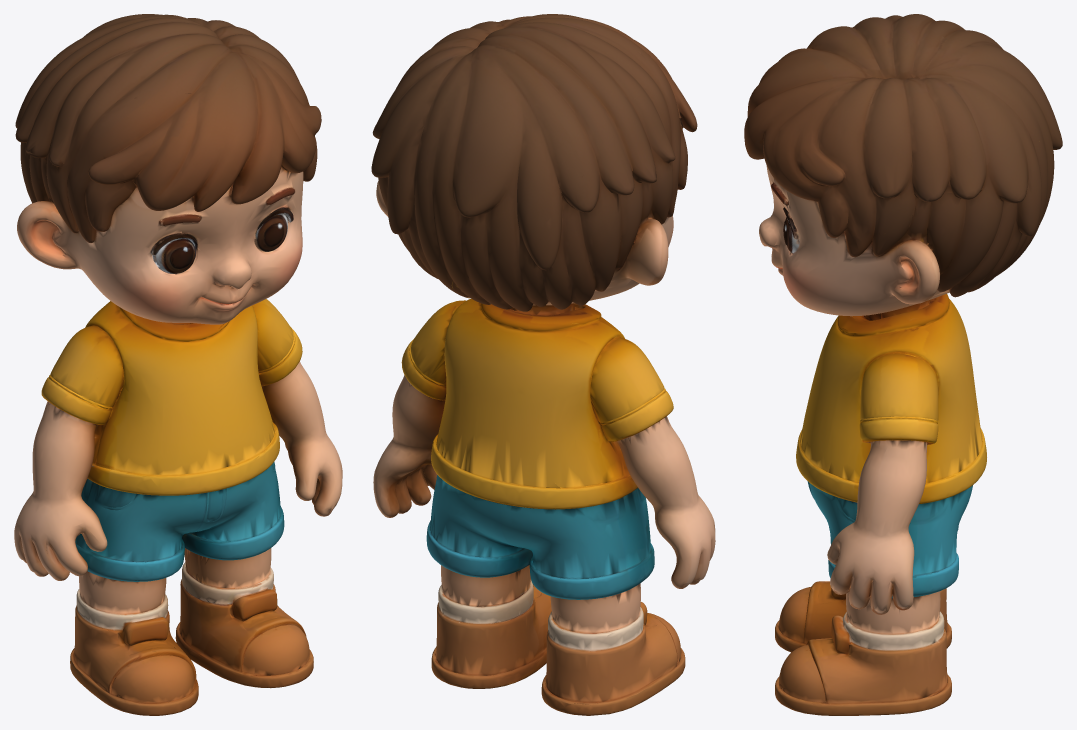
The model's file is doll.fbx.
The picture shows the model from 3 angles, left to right: view 1: azimuth 30°, elevation 25°; view 2: azimuth 150°, elevation 25°; view 3: azimuth 270°, elevation 25°; orthographic projection. The views are drawn at different scales.
Visible parts, largest first — view 1: node_0; view 2: node_0; view 3: node_0.
Part boxes in pixels (x1,y1,x2,y2): node_0: (14, 14, 342, 715); node_0: (371, 14, 715, 715); node_0: (744, 14, 1062, 715).
Bounding box in the file's own units: 58.07 × 112 × 50.24.
1 material, 1 textured.
